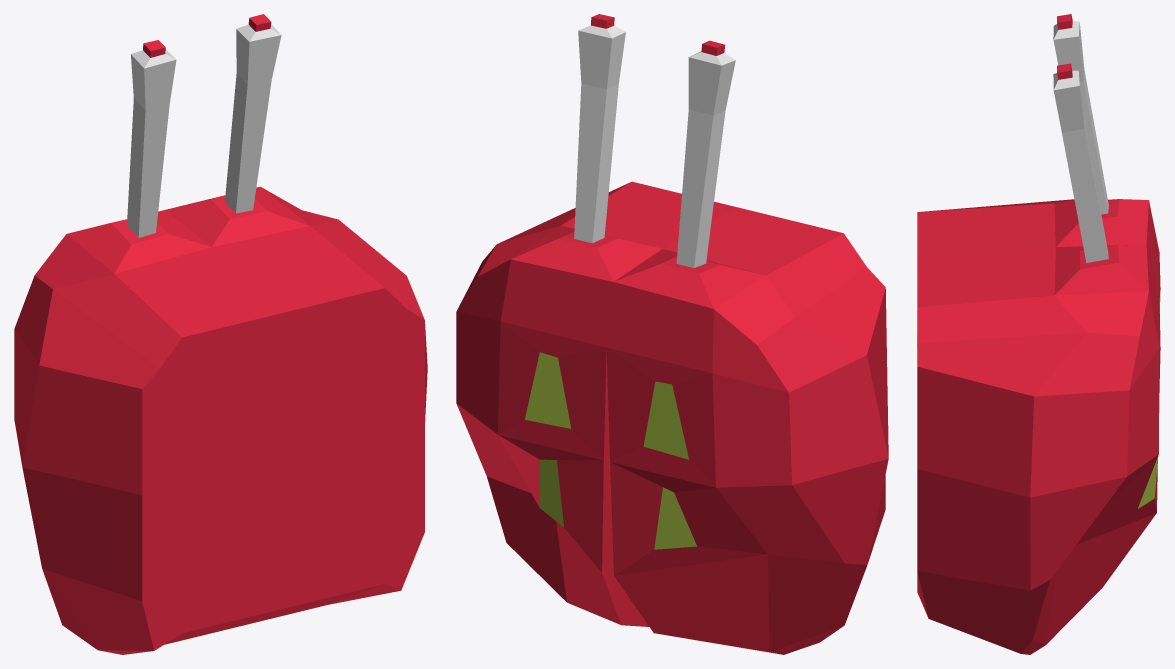
Rendered from Turret_Deux_v13.fbx.
3 views of the same model, side by side, from view 1: azimuth 30°, elevation 25°; view 2: azimuth 150°, elevation 25°; view 3: azimuth 270°, elevation 25° (orthographic). The views are drawn at different scales.
Parts seen in each view (by area): view 1: Double; view 2: Double; view 3: Double.
Part boxes in pixels (x1=…): Double: x1=14, y1=14, x2=427, y2=654; Double: x1=456, y1=14, x2=888, y2=654; Double: x1=917, y1=14, x2=1160, y2=654.
Bounding box in the file's own units: 2 × 2.76 × 1.08.
